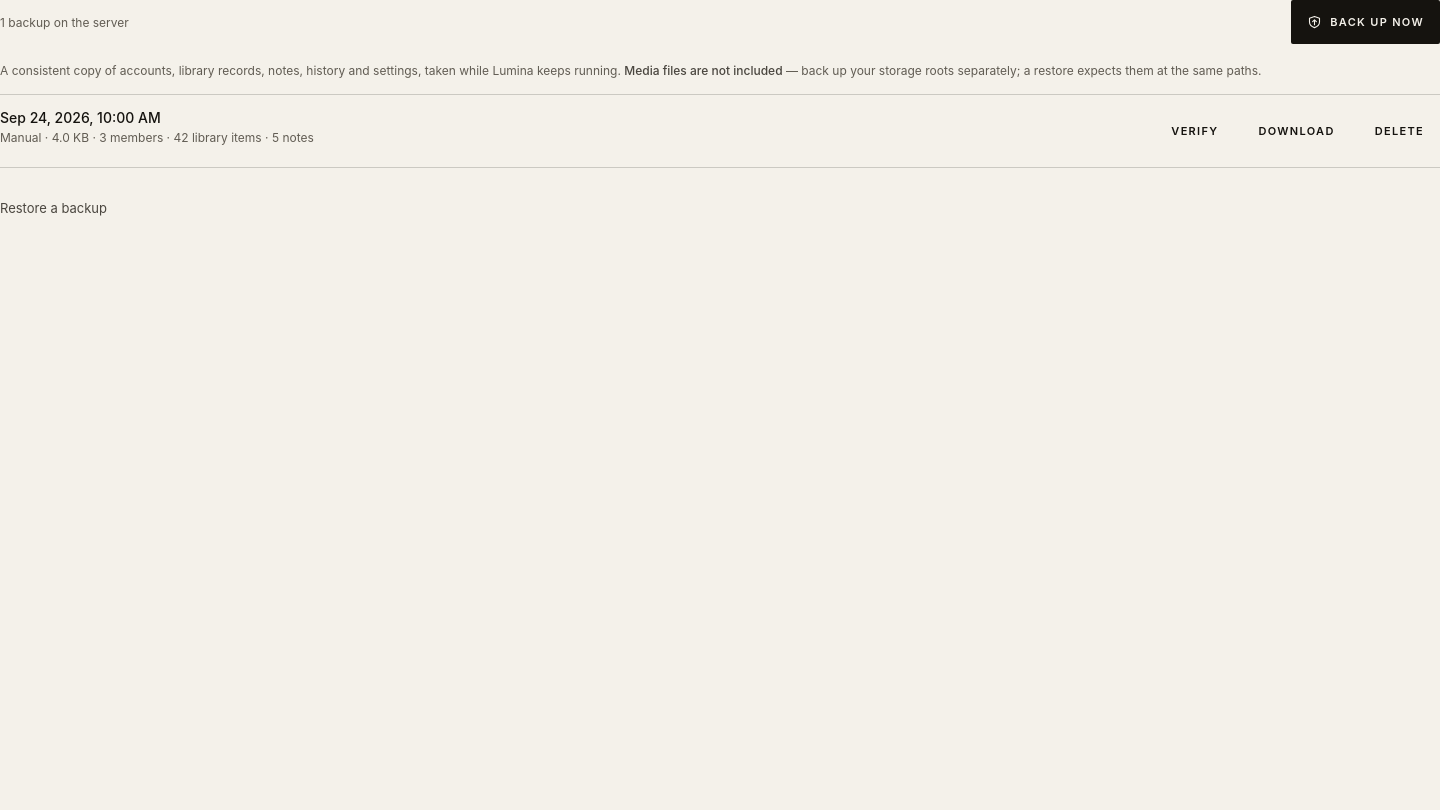
admin backups › lists, verifies, and deletes only after confirmation
Expected: the list item with aria-label "Manual backup" shows "3 members", [0, 94, 1439, 168]
Click the button "Verify" at (1195, 131), box [1155, 109, 1234, 153]
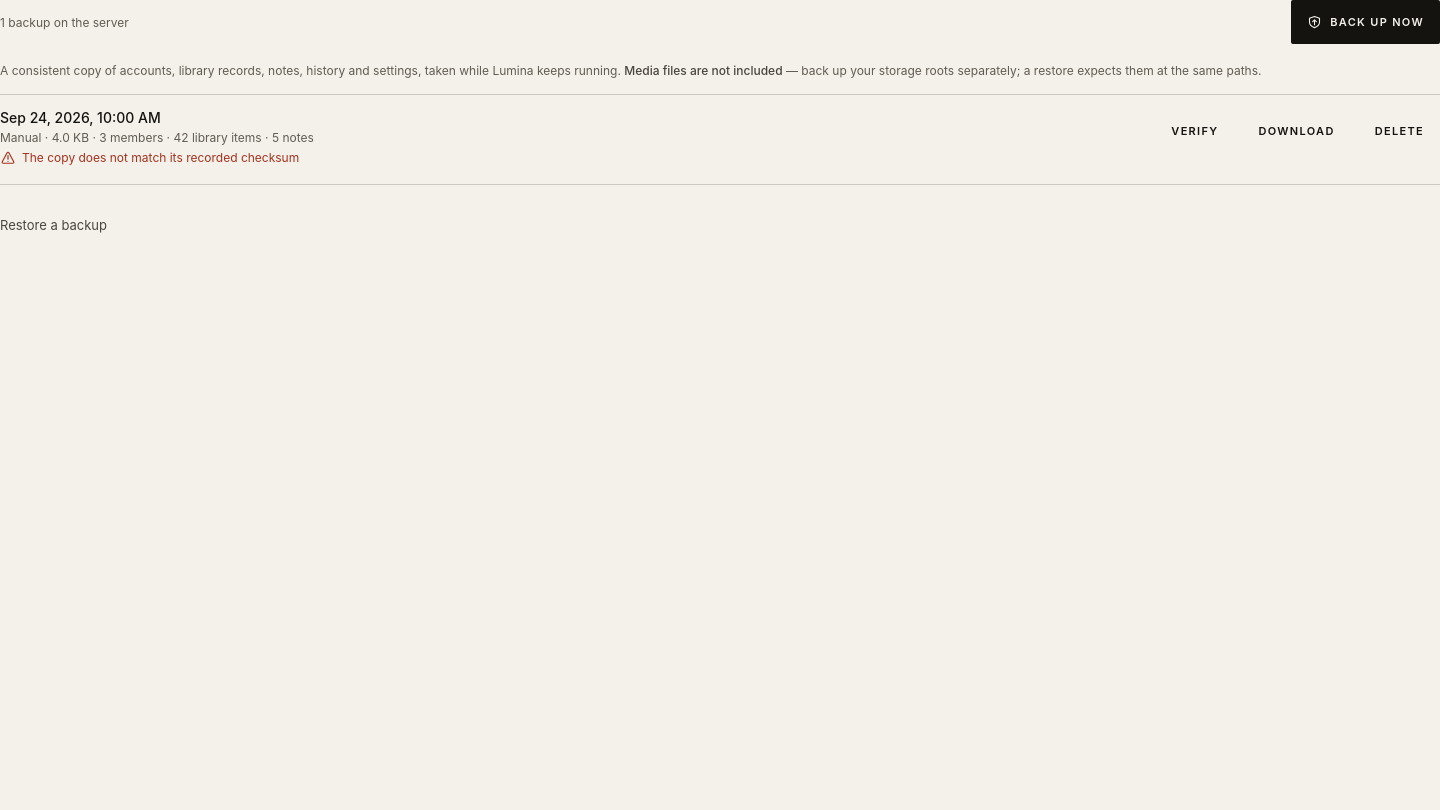
Result: the text "The copy does not match its recorded checksum" is shown at [22, 149, 299, 166]
Click the button with aria-label "Delete backup from" at (1399, 131), box [1359, 109, 1439, 153]
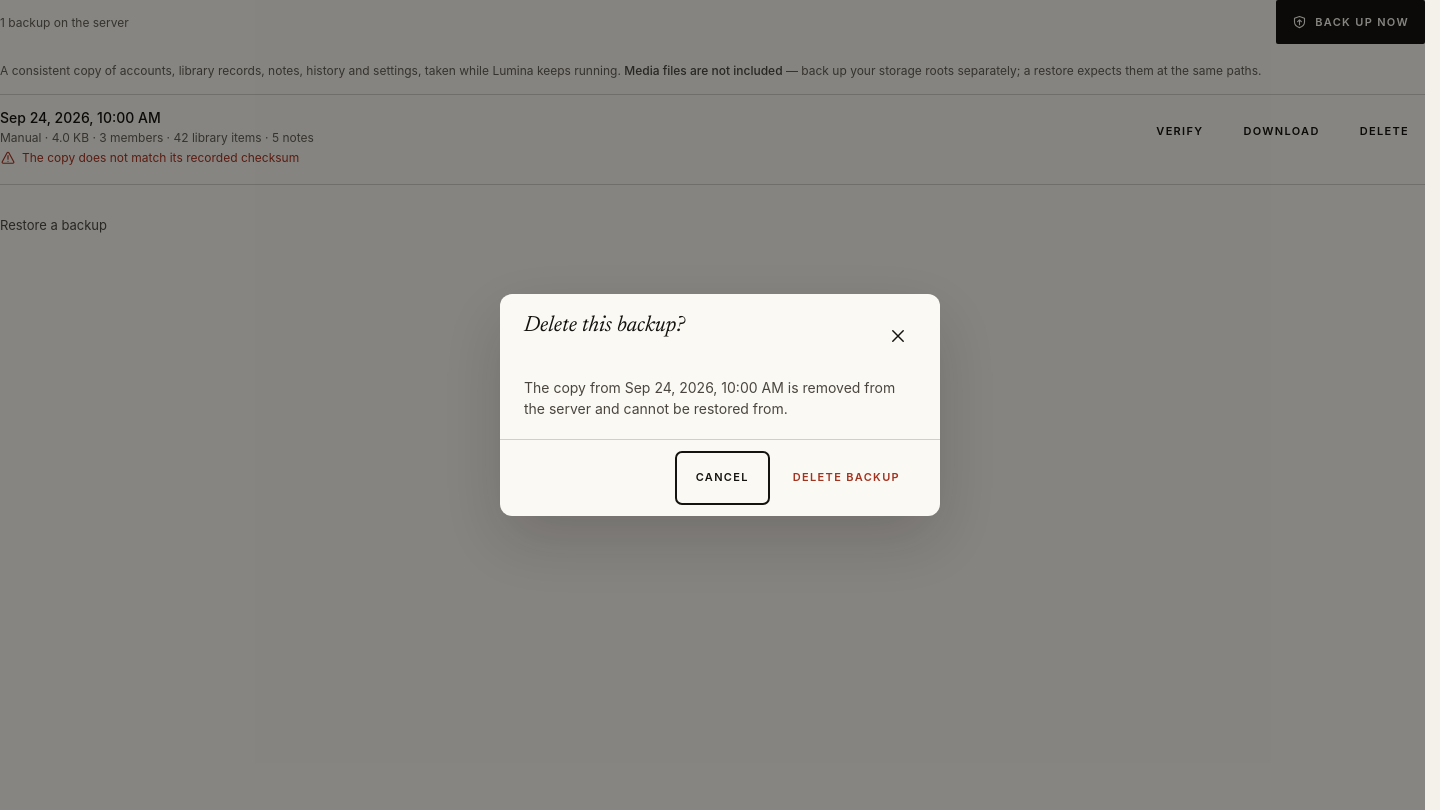
Click the button "Delete backup" at (846, 478), box [777, 456, 916, 500]
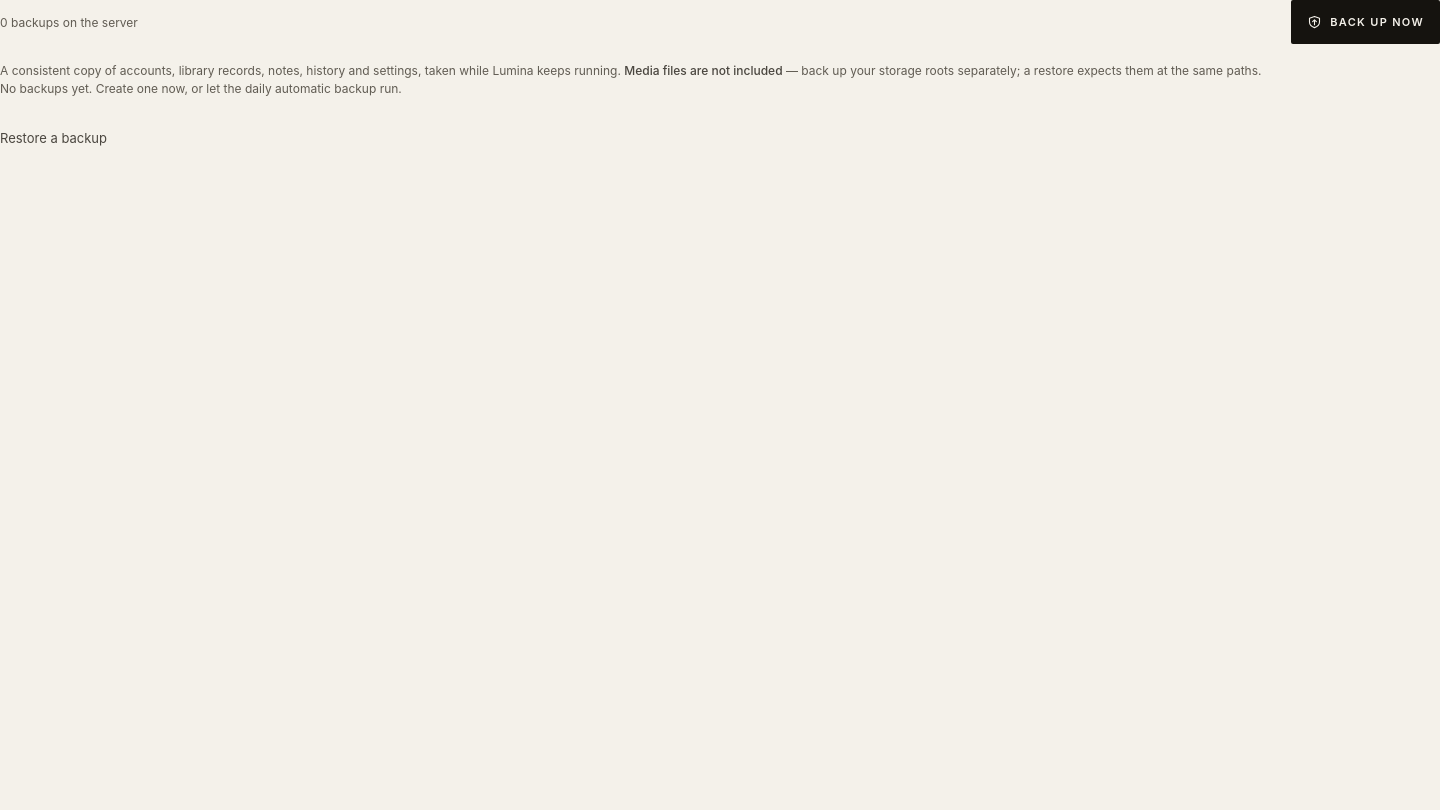
Result: the text "No backups yet" is shown at [0, 81, 402, 96]
